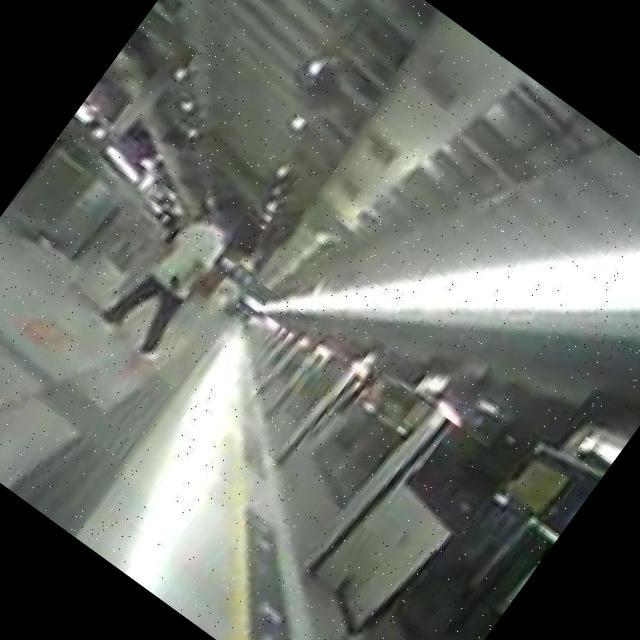person: (92, 190, 246, 364)
